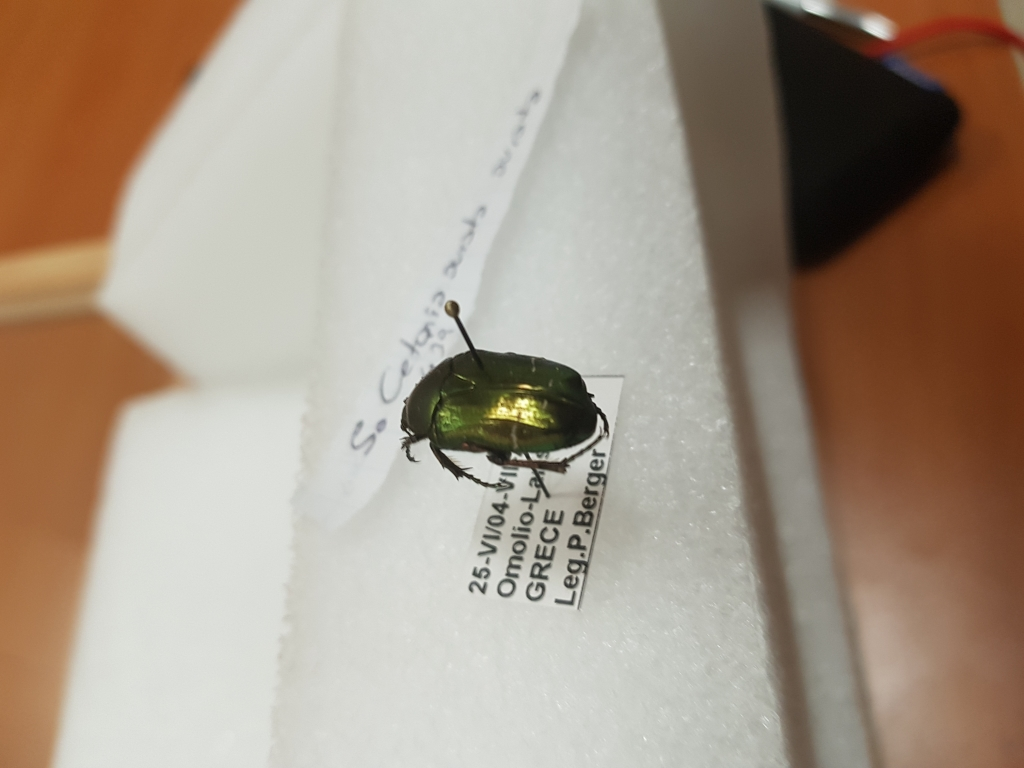Cetonia_aurata: (390, 340, 609, 493)
